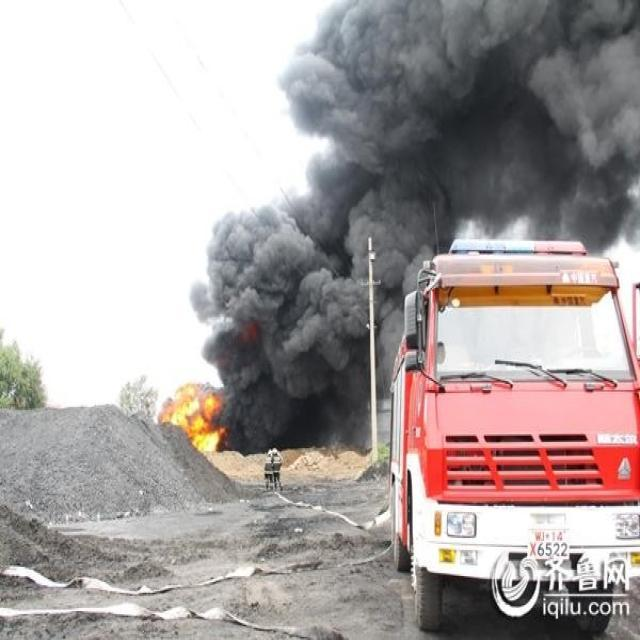Fire: (156, 381, 227, 453)
Smoke: (189, 2, 640, 457)
